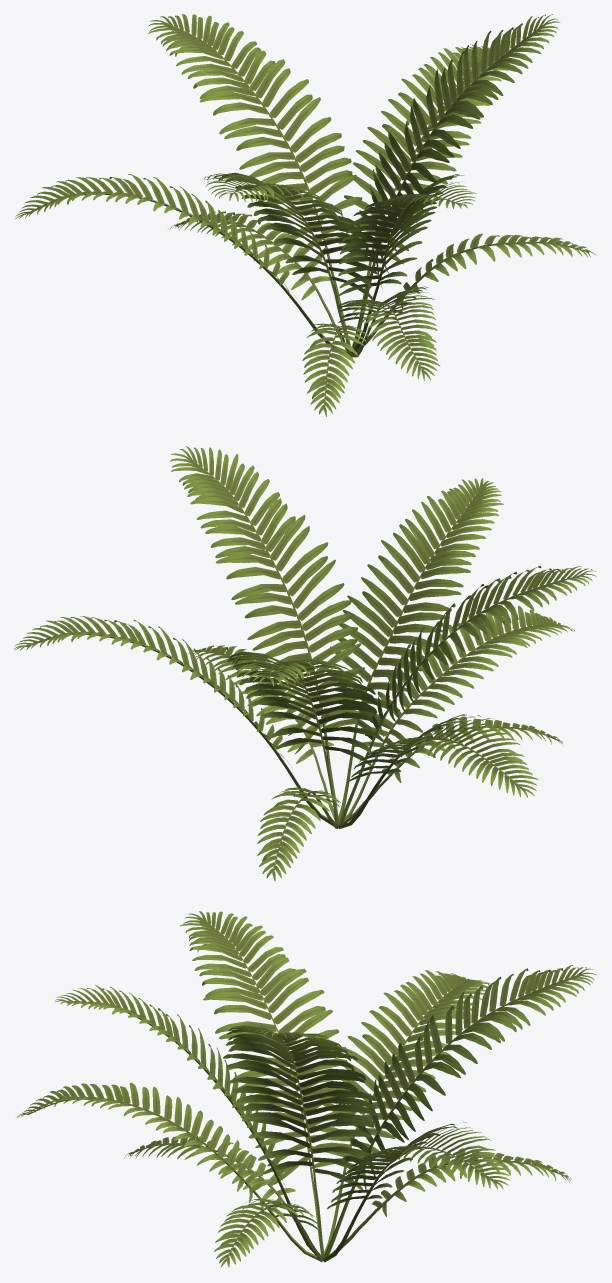
The model's file is palmeira1.fbx.
3 views of the same model, one above another, from view 1: azimuth 30°, elevation 25°; view 2: azimuth 150°, elevation 25°; view 3: azimuth 270°, elevation 25° (orthographic).
Visible parts, largest first — view 1: MH_Fern01_01_Shape; view 2: MH_Fern01_01_Shape; view 3: MH_Fern01_01_Shape.
Part boxes in pixels (x1,y1,x2,y2): MH_Fern01_01_Shape: [15, 14, 596, 416]; MH_Fern01_01_Shape: [14, 446, 596, 881]; MH_Fern01_01_Shape: [16, 911, 596, 1267].
Size of the model in its own units: 69.01 by 41.24 by 68.73.
Materials: 2 (2 with a texture image).
